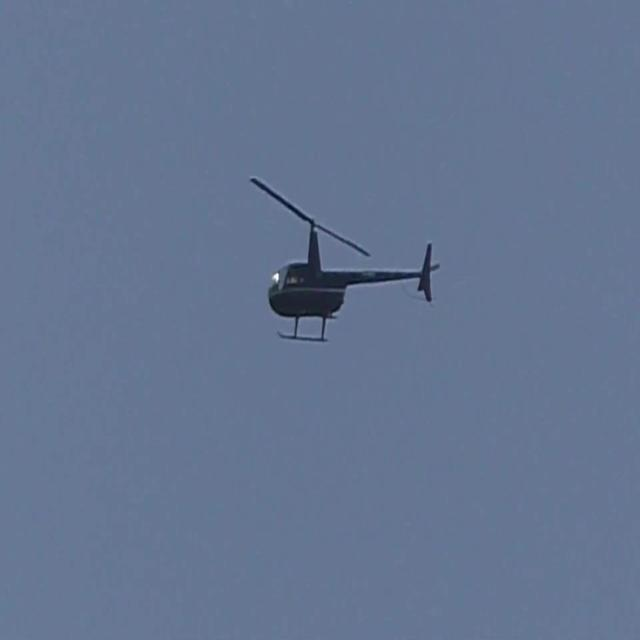CIV_HELO: (266, 218, 440, 343)
